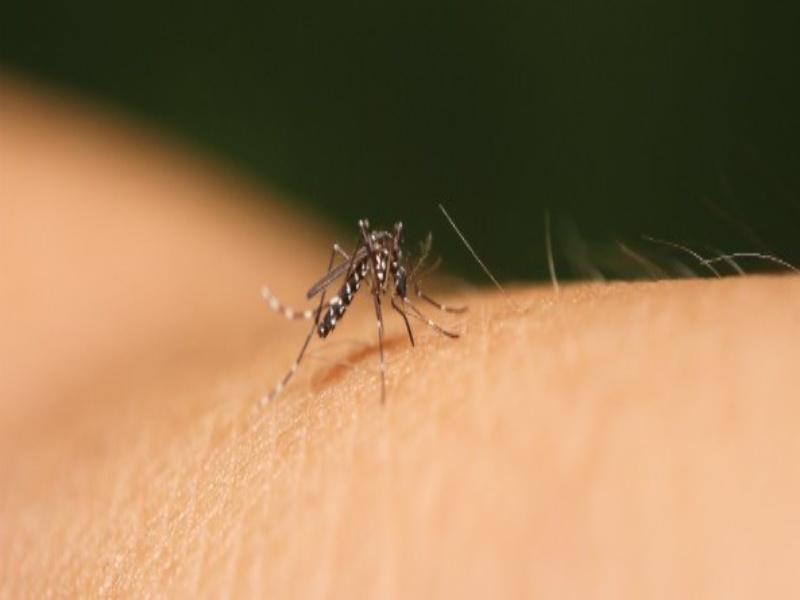dengue_mosquito: (283, 216, 450, 364)
